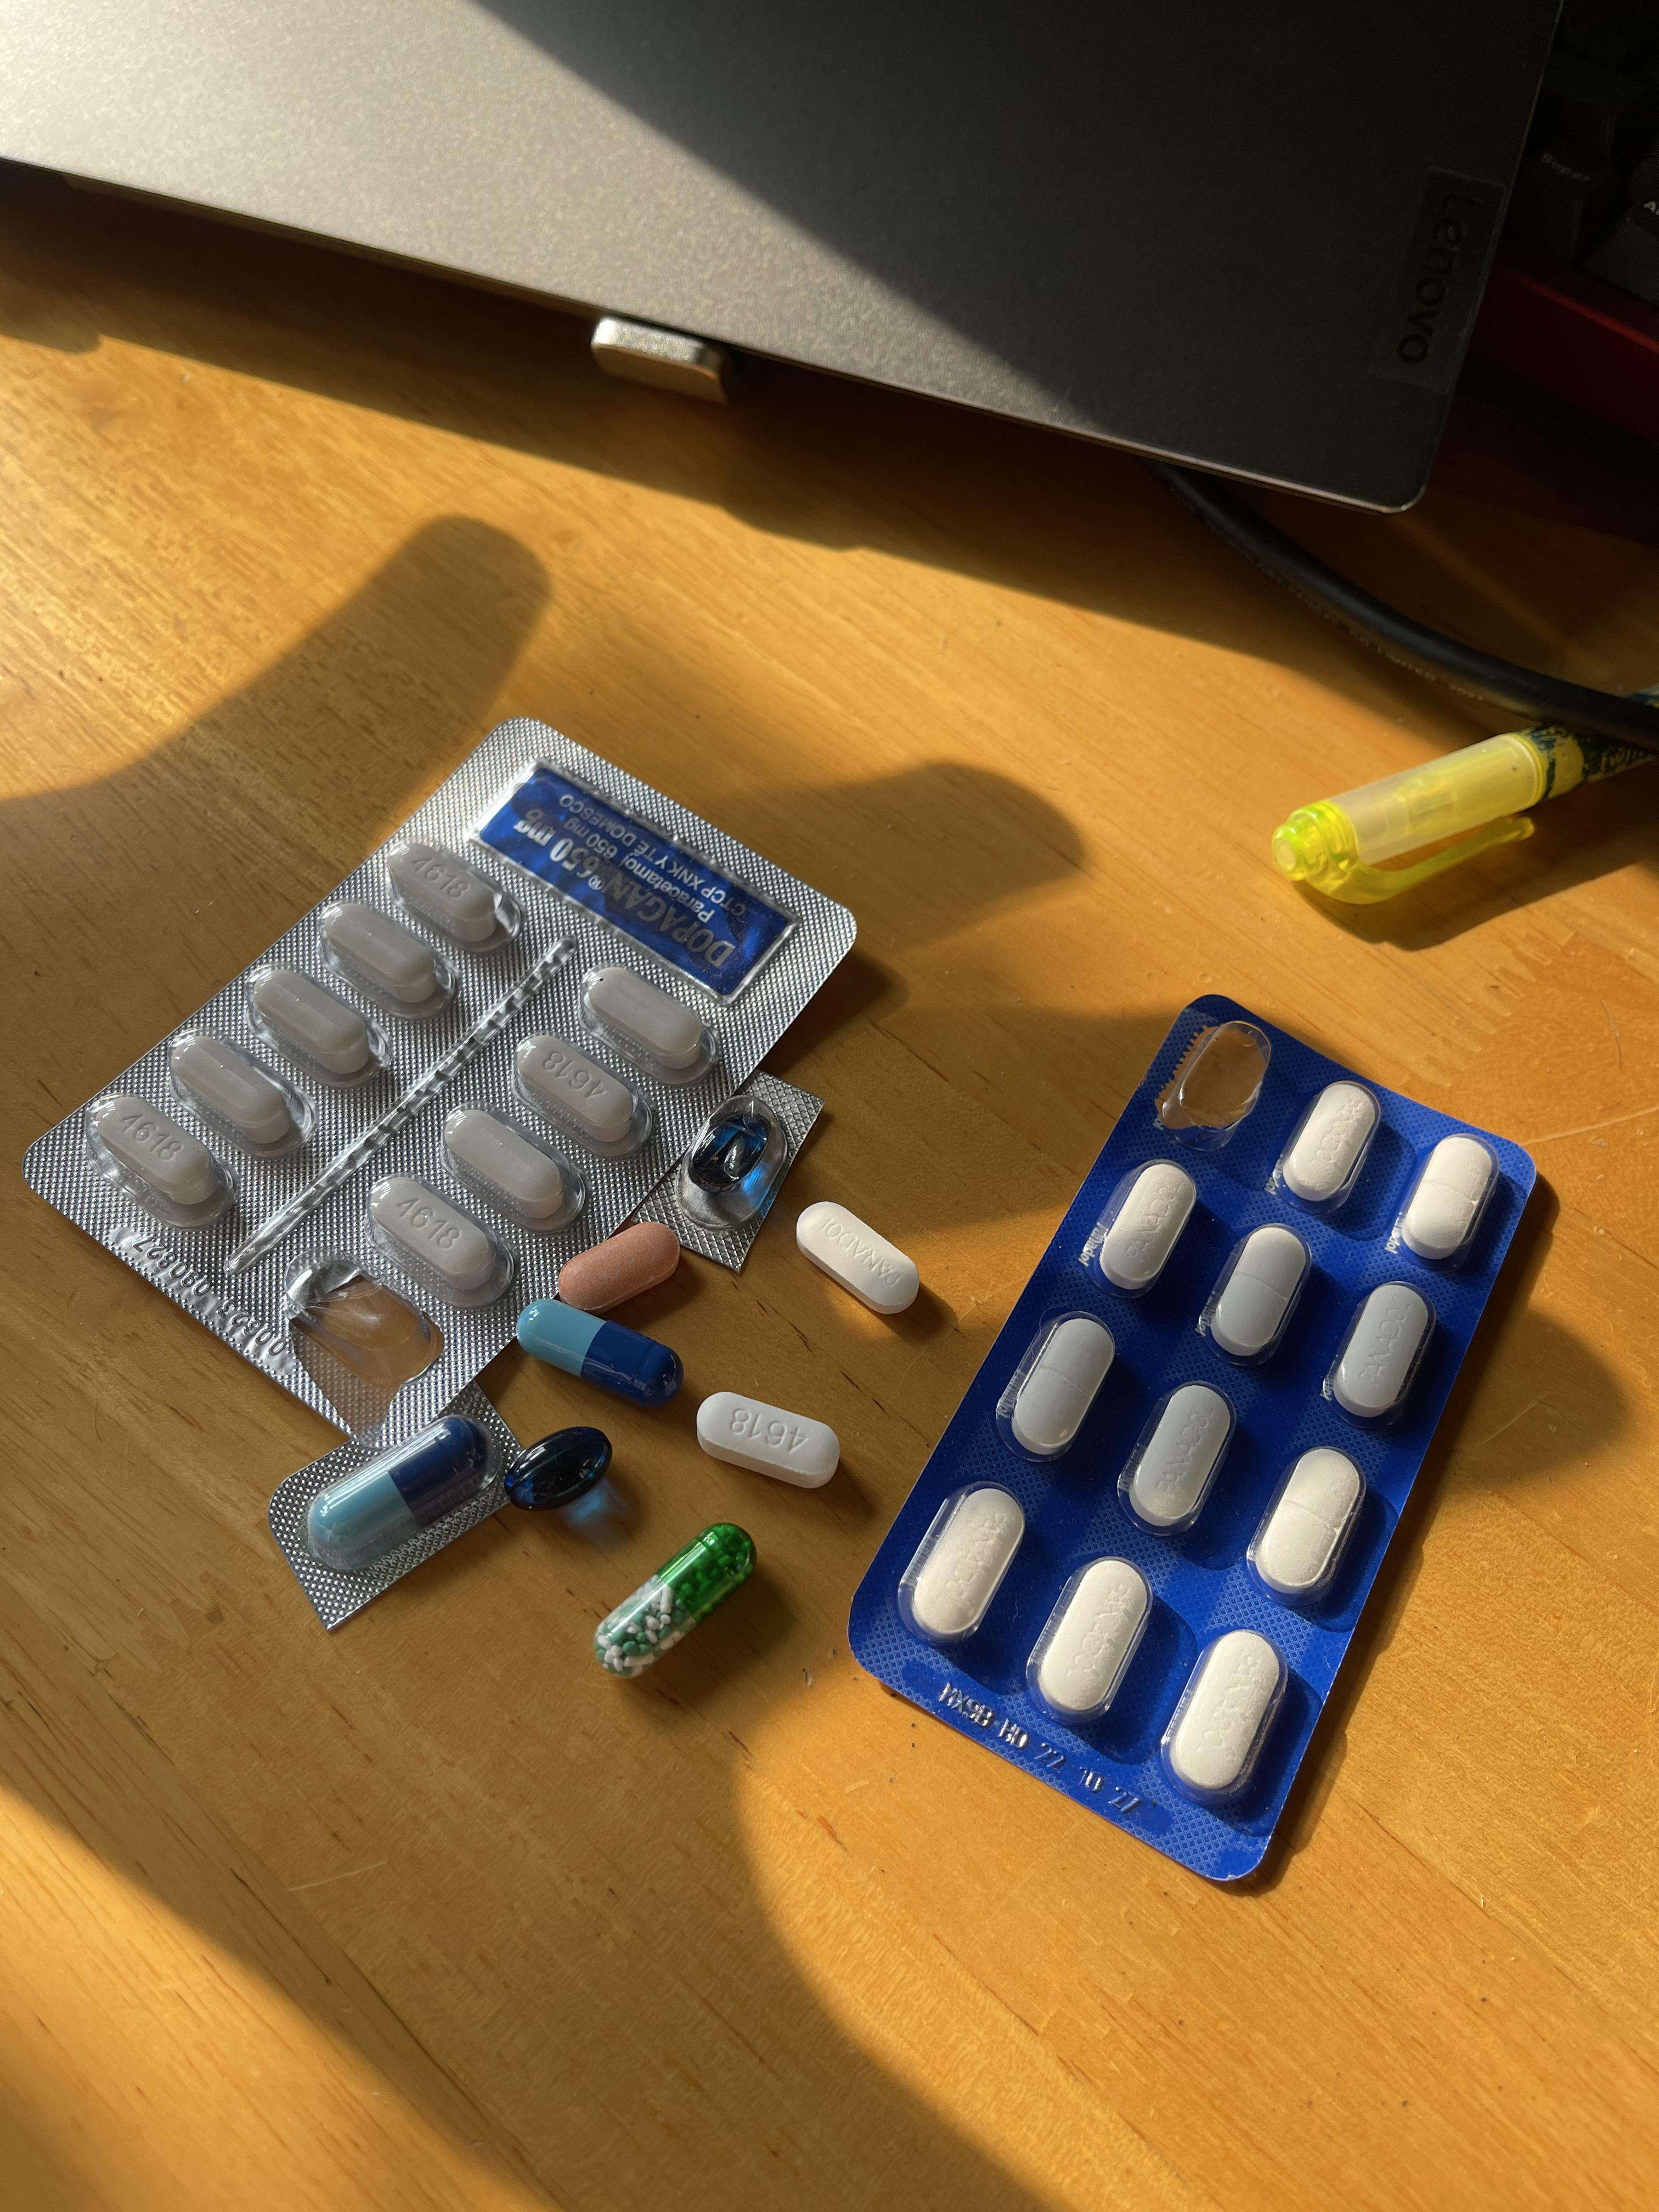Lincomyxin_500mg: (509, 1425, 610, 1510), (697, 1116, 769, 1190)
Loratadine_10mg: (556, 1219, 683, 1312)
Paracetamol_350mg: (1164, 1627, 1295, 1811), (1032, 1555, 1155, 1724), (1249, 1442, 1370, 1608), (904, 1486, 1028, 1646), (1122, 1379, 1237, 1538), (1002, 1313, 1117, 1465), (1328, 1275, 1436, 1432), (1204, 1221, 1312, 1369), (793, 1204, 920, 1320), (1394, 1127, 1499, 1268), (1093, 1160, 1199, 1296), (1276, 1078, 1380, 1209)
Paracetamol_500mg: (87, 1096, 230, 1231), (366, 1174, 509, 1308), (441, 1109, 580, 1240), (512, 1033, 652, 1160), (171, 1033, 305, 1160), (247, 970, 382, 1094), (584, 965, 716, 1082), (389, 841, 526, 953), (322, 900, 450, 1017), (695, 1390, 838, 1489)
Paracetamol_650mg: (599, 1521, 755, 1674)
pill: (307, 1418, 484, 1566), (518, 1298, 680, 1402)
